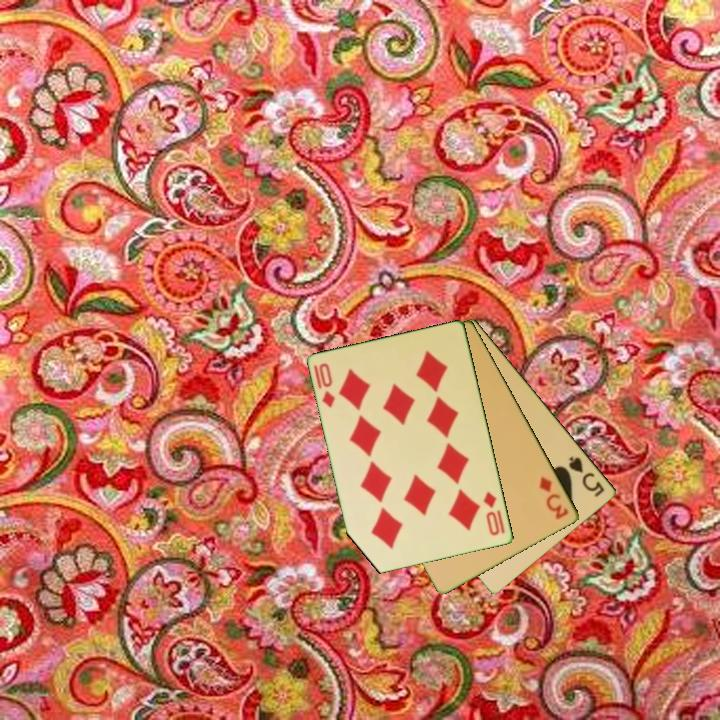10d: (480, 488, 503, 539), (316, 359, 338, 411)
3d: (536, 473, 572, 522)
5s: (565, 453, 608, 500)
